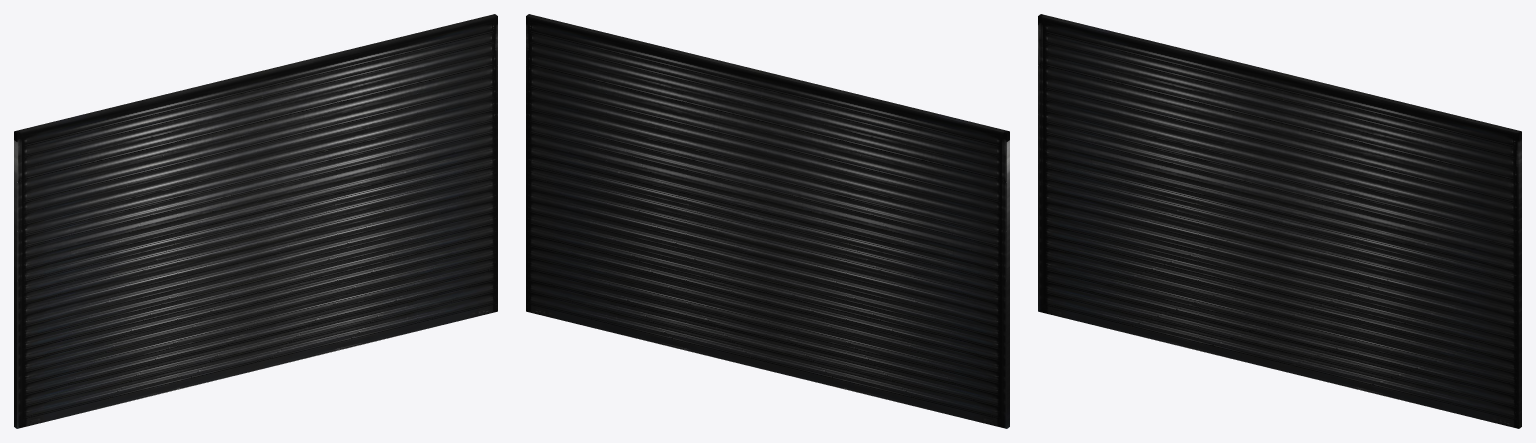
Rendered from portagaragem.glb.
3 renders of one model, left to right at view 1: azimuth 30°, elevation 25°; view 2: azimuth 150°, elevation 25°; view 3: azimuth 330°, elevation 25°, orthographic.
Parts seen in each view (by area): view 1: Plane; view 2: Plane; view 3: Plane.
Boxes of the visible parts, x1,y1,x2,y2 form: Plane: [14, 14, 497, 428]; Plane: [526, 14, 1009, 428]; Plane: [1038, 14, 1521, 428].
Size of the model in its own units: 12.58 by 7.39 by 0.1296.
Materials: 1 (1 with a texture image).
